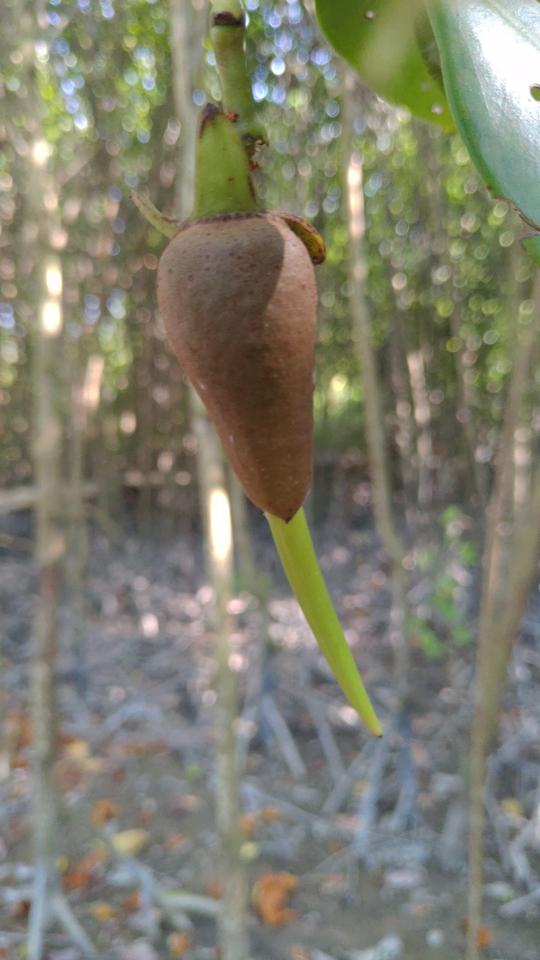mentah: (113, 104, 406, 753)
